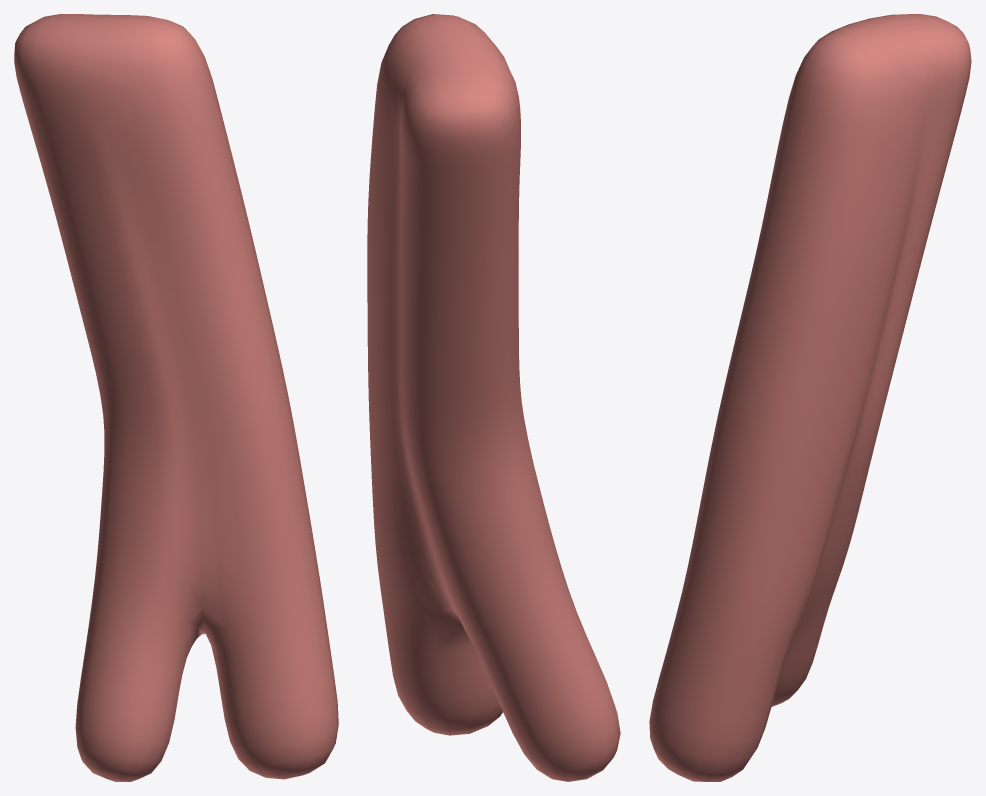
3 views of the same model, side by side, from view 1: azimuth 30°, elevation 25°; view 2: azimuth 150°, elevation 25°; view 3: azimuth 270°, elevation 25° (orthographic). The views are drawn at different scales.
Parts seen in each view (by area): view 1: ZA_268f19ec4f4ac9f3; view 2: ZA_268f19ec4f4ac9f3; view 3: ZA_268f19ec4f4ac9f3.
Part boxes in pixels (x1,y1,x2,y2): ZA_268f19ec4f4ac9f3: (14,14,338,781); ZA_268f19ec4f4ac9f3: (367,14,620,781); ZA_268f19ec4f4ac9f3: (649,14,971,781).
Size of the model in its own units: 0.0106 by 0.0324 by 0.0133.
